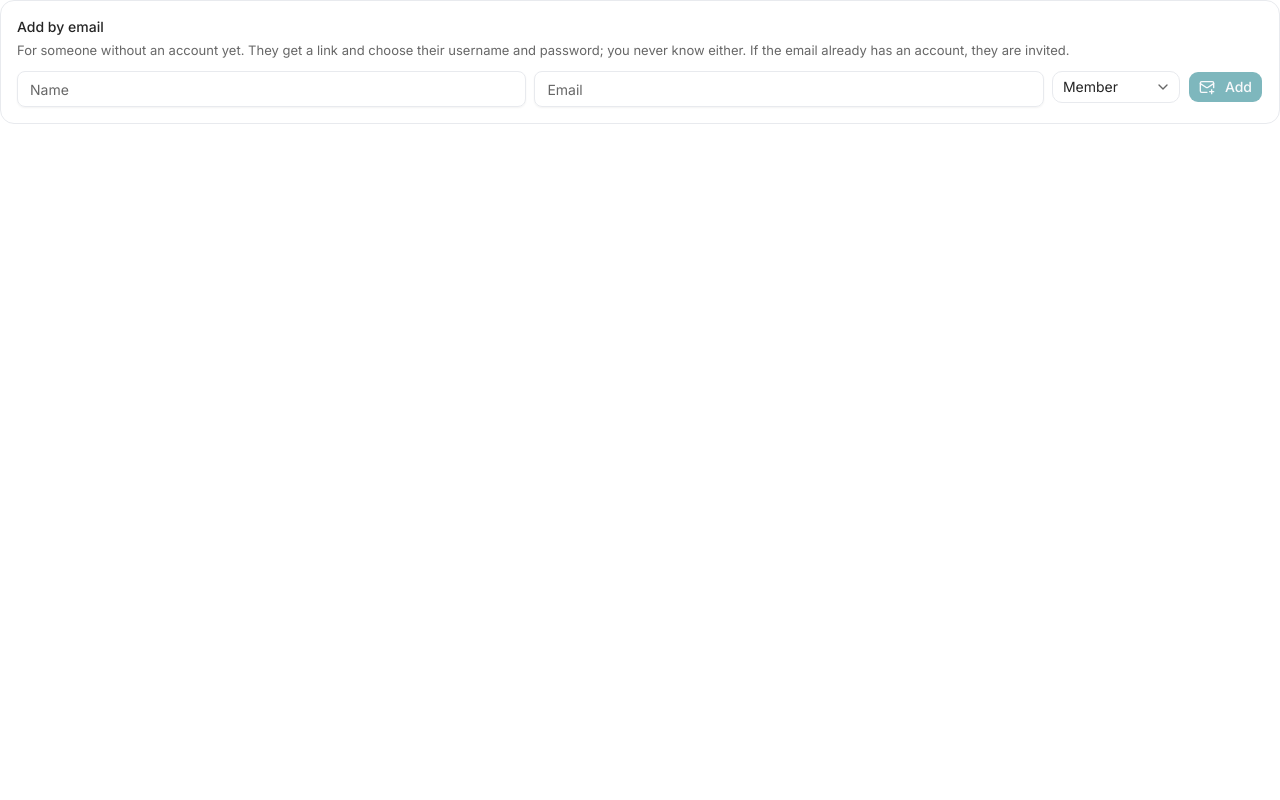
it: dar de alta por correo › si el correo no salió, enseña el enlace para pasarlo a mano
The image size is (1280, 800).
In the field labelled "Name": [272, 89] box top-left (17, 71), bottom-right (526, 107), type "Caro"
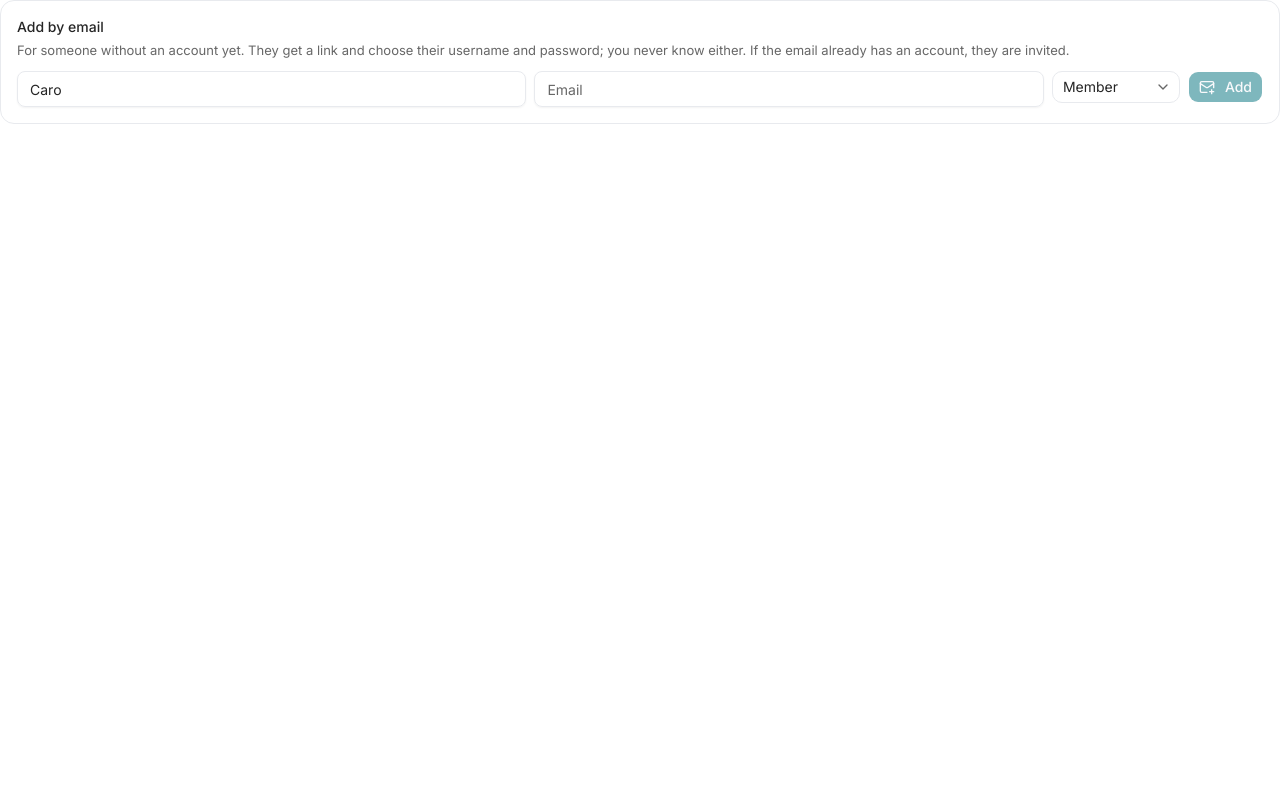
In the field labelled "Email": [789, 89] box top-left (534, 71), bottom-right (1044, 107), type "caro@x.io"
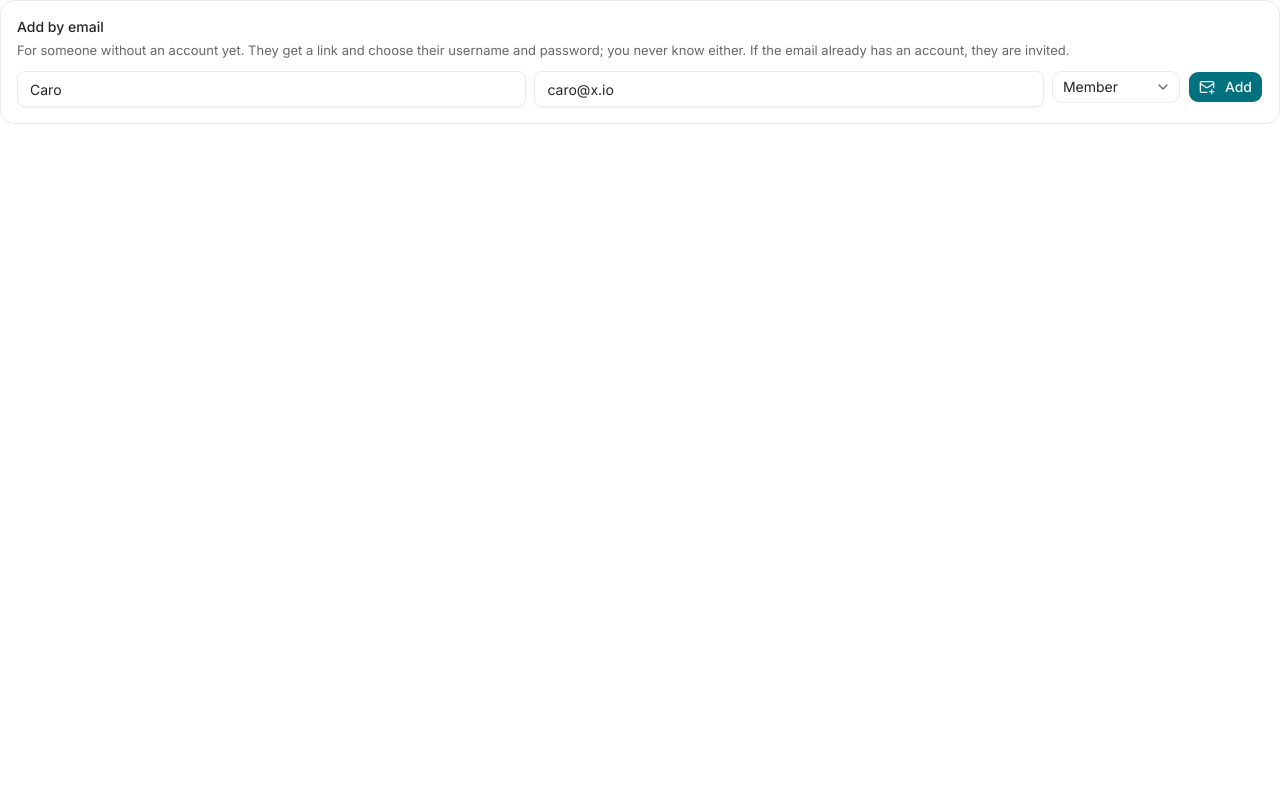
Click the button "Add": [1225, 87] box top-left (1188, 71), bottom-right (1263, 103)
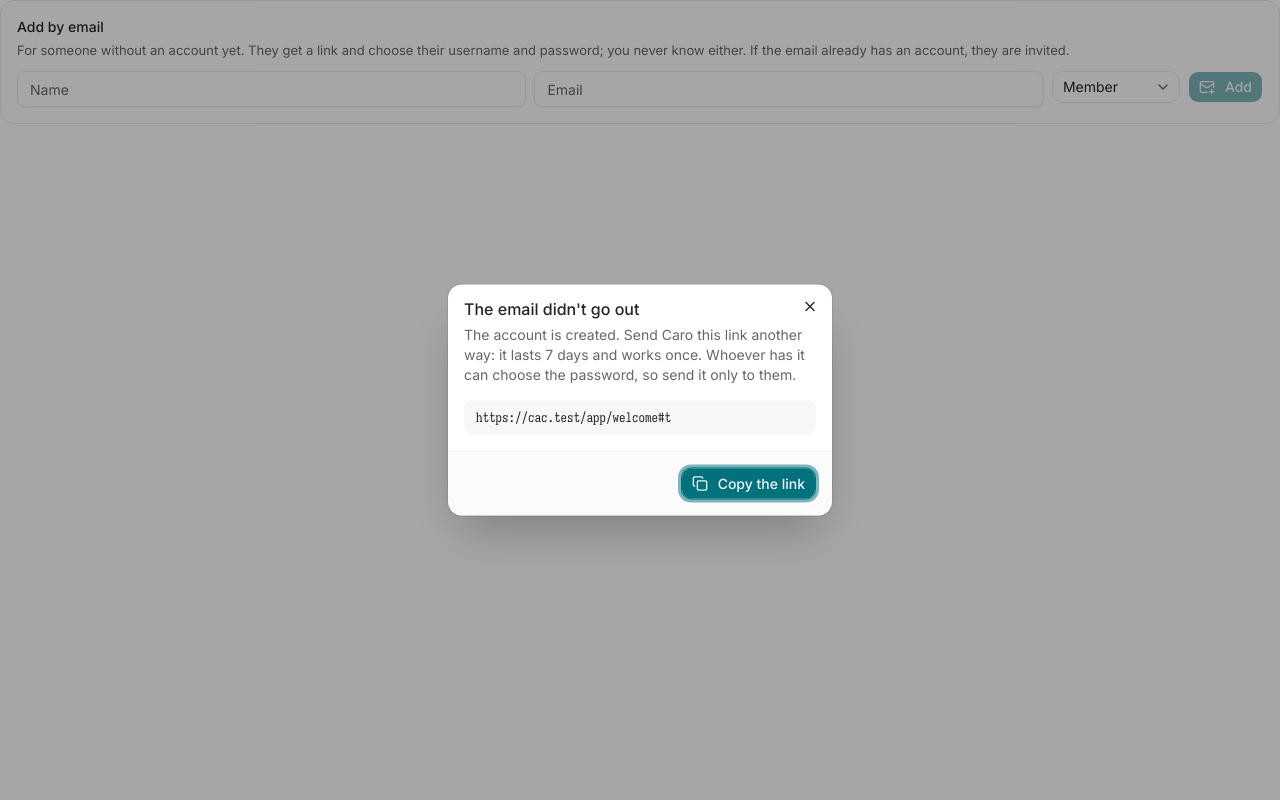
Result: the text with test id "account-link" reads "https://cac.test/app/welcome#t" at top-left (476, 408), bottom-right (671, 426)
